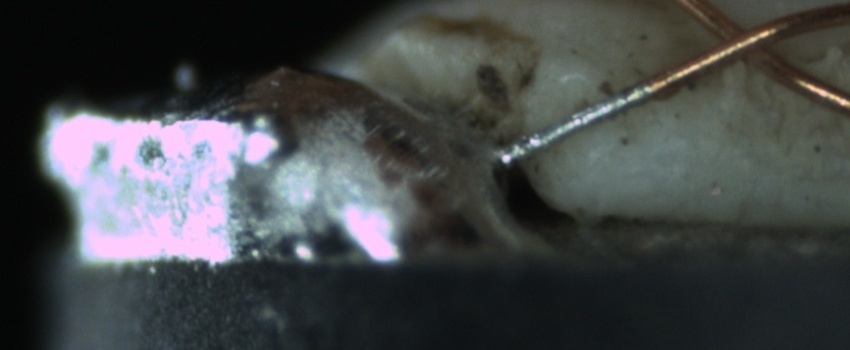CL: (691, 9, 794, 77)
TS: (496, 79, 658, 166)
